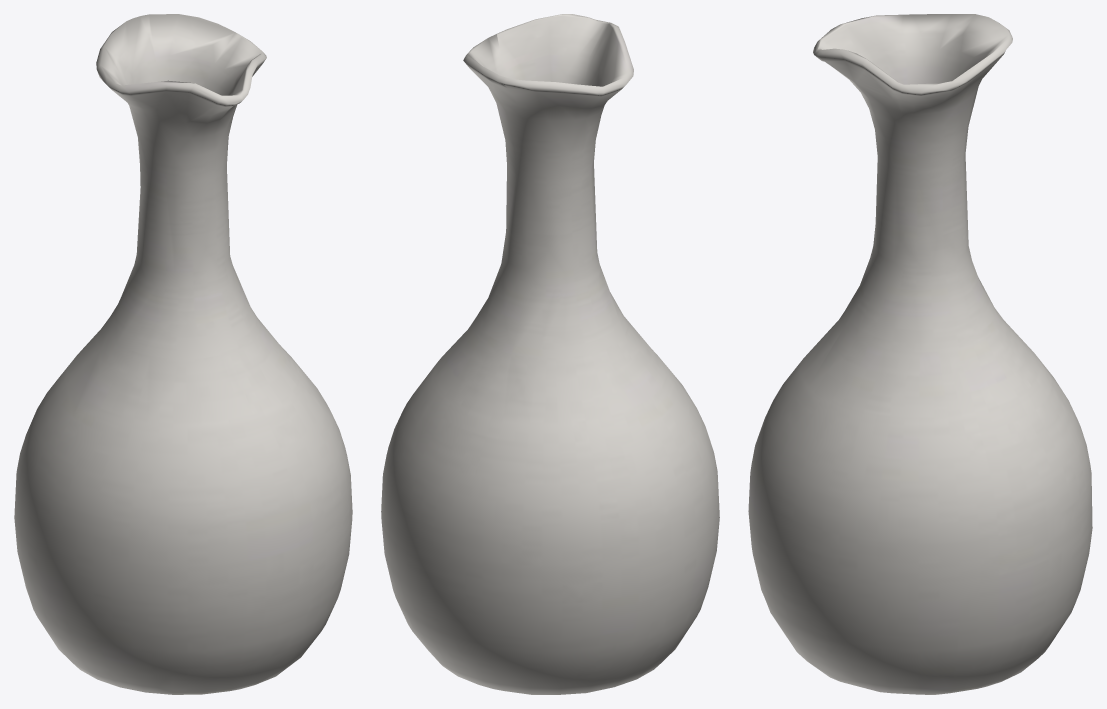
The model's file is ceramic_vase_01.glb.
3 renders of one model, left to right at view 1: azimuth 30°, elevation 25°; view 2: azimuth 150°, elevation 25°; view 3: azimuth 270°, elevation 25°, orthographic.
Visible parts, largest first — view 1: ceramic_vase_01; view 2: ceramic_vase_01; view 3: ceramic_vase_01.
Boxes of the visible parts, x1,y1,x2,y2 form: ceramic_vase_01: [14, 14, 352, 694]; ceramic_vase_01: [381, 14, 719, 694]; ceramic_vase_01: [748, 14, 1092, 694].
Bounding box in the file's own units: 0.2036 × 0.4003 × 0.2031.
Materials: 1 (1 with a texture image).
